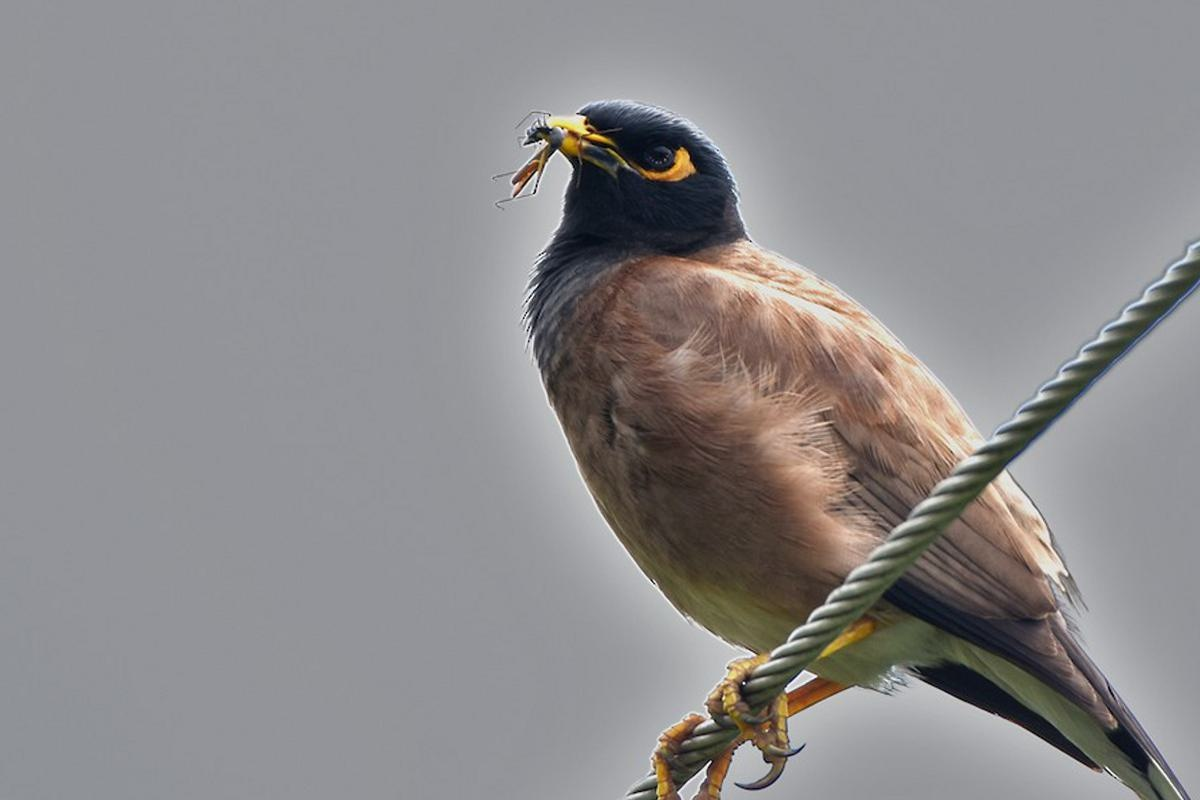myna: (447, 91, 1097, 744)
